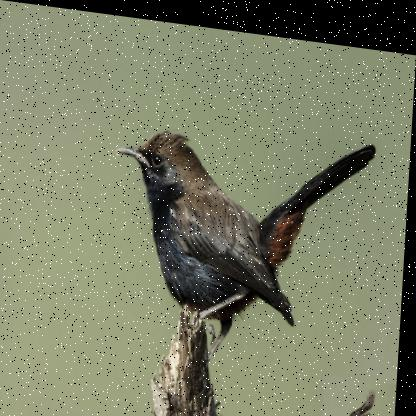Burung: (109, 106, 377, 370)
